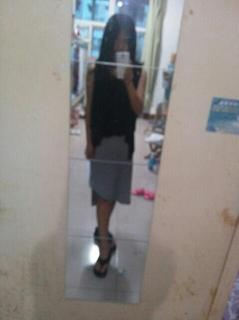vest: (89, 61, 141, 205)
vest dress: (90, 60, 142, 162)
